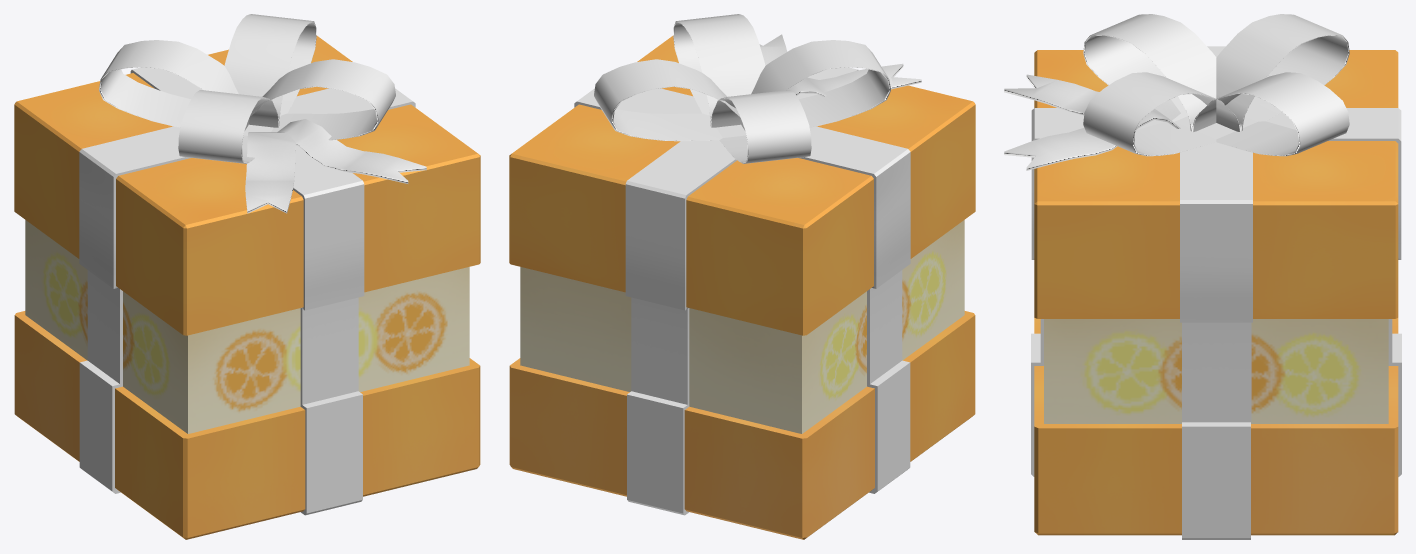
File: itembloock.fbx
3 views of the same model, side by side, from view 1: azimuth 30°, elevation 25°; view 2: azimuth 150°, elevation 25°; view 3: azimuth 270°, elevation 25° (orthographic). The views are drawn at different scales.
Visible parts, largest first — view 1: pCube5, polySurface1, polySurface2, polySurface3, pCube4; view 2: pCube5, polySurface1, polySurface3, polySurface2, pCube4; view 3: pCube5, polySurface1, polySurface2, polySurface3, pCube4.
Part boxes in pixels (x1,y1,x2,y2): pCube5: [14, 220, 480, 539]; polySurface1: [14, 35, 480, 335]; polySurface2: [99, 40, 395, 140]; polySurface3: [178, 14, 316, 163]; pCube4: [245, 119, 426, 213]; pCube5: [509, 220, 975, 539]; polySurface1: [509, 35, 975, 335]; polySurface3: [594, 40, 890, 141]; polySurface2: [673, 14, 811, 163]; pCube4: [759, 34, 921, 96]; pCube5: [1031, 318, 1401, 539]; polySurface1: [1031, 46, 1401, 322]; polySurface2: [1083, 14, 1349, 156]; polySurface3: [1083, 14, 1349, 156]; pCube4: [1004, 74, 1180, 170].
Size of the model in its own units: 53.8 by 64.85 by 57.71.
Materials: 1 (1 with a texture image).
